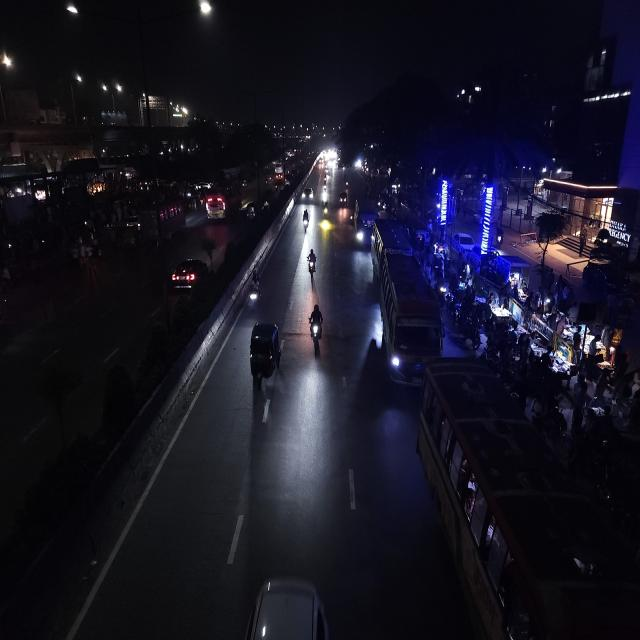bus: (418, 358, 640, 640), (482, 488, 640, 640), (370, 220, 444, 392), (205, 176, 242, 222), (353, 194, 377, 248)
car: (232, 567, 338, 640), (170, 253, 210, 295), (452, 230, 477, 257), (300, 182, 314, 204)
cng: (246, 318, 284, 390), (243, 198, 258, 222), (320, 177, 330, 200), (339, 189, 348, 207)
motorcycle: (306, 300, 326, 352), (245, 269, 264, 315), (306, 246, 318, 282), (300, 206, 312, 233), (321, 199, 330, 218)
